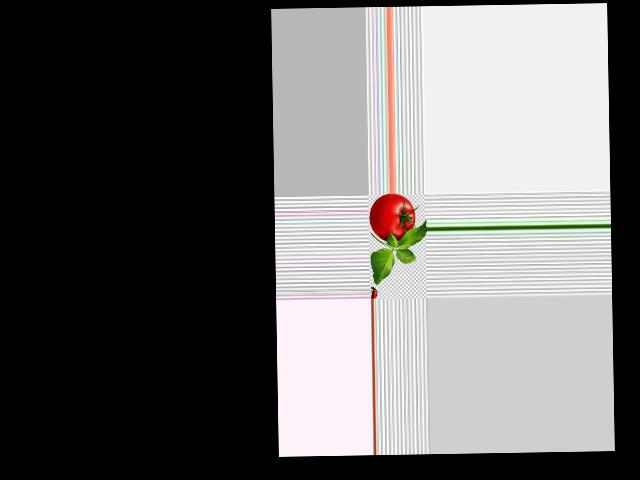tomato: (368, 193, 415, 241)
